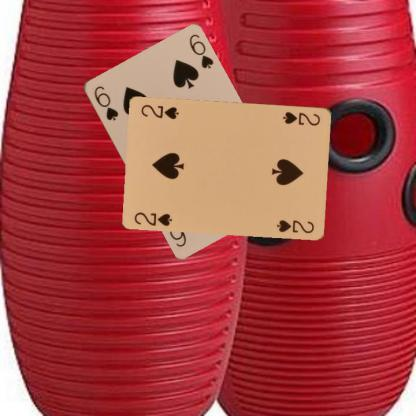2s: (280, 109, 322, 127), (132, 209, 173, 227)
6s: (90, 83, 119, 122)
